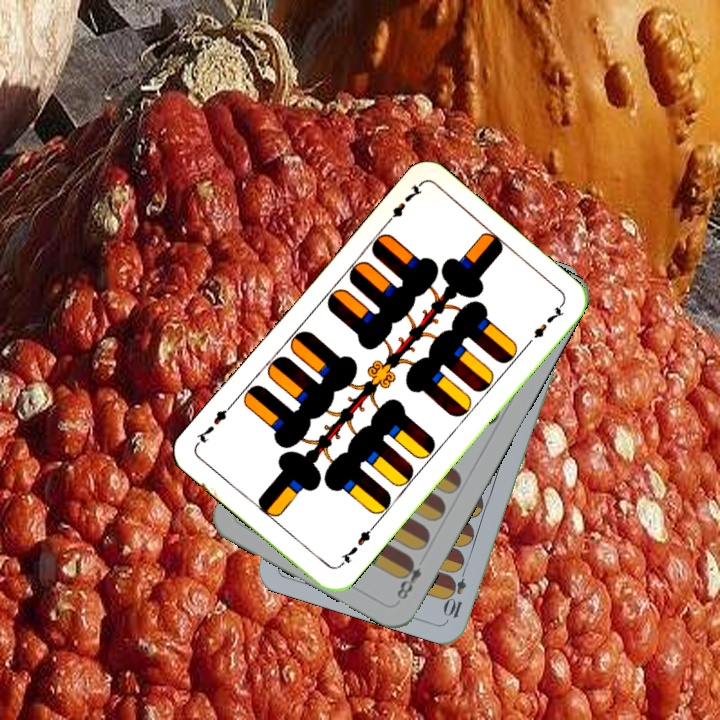E10: (442, 562, 470, 621)
E7: (380, 179, 425, 228), (334, 521, 378, 570)
E8: (392, 554, 425, 603)
